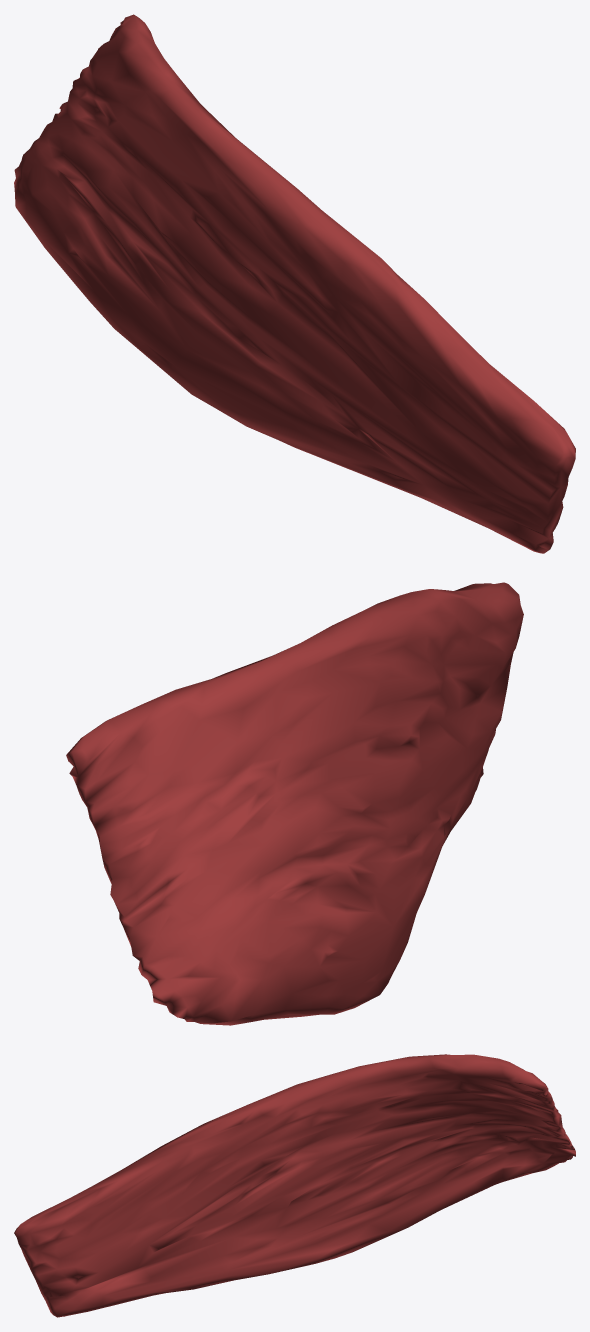
Rendered from external-part-of-thyro-arytenoid-muscle-r.glb.
3 renders of one model, top to bottom at view 1: azimuth 30°, elevation 25°; view 2: azimuth 150°, elevation 25°; view 3: azimuth 270°, elevation 25°, orthographic. The views are drawn at different scales.
Parts seen in each view (by area): view 1: External part of thyro-arytenoid muscle.r; view 2: External part of thyro-arytenoid muscle.r; view 3: External part of thyro-arytenoid muscle.r.
Part boxes in pixels (x1,y1,x2,y2): External part of thyro-arytenoid muscle.r: (14,14,575,553); External part of thyro-arytenoid muscle.r: (66,582,523,1025); External part of thyro-arytenoid muscle.r: (14,1054,575,1317).
Size of the model in its own units: 0.00597 by 0.00921 by 0.0208.
